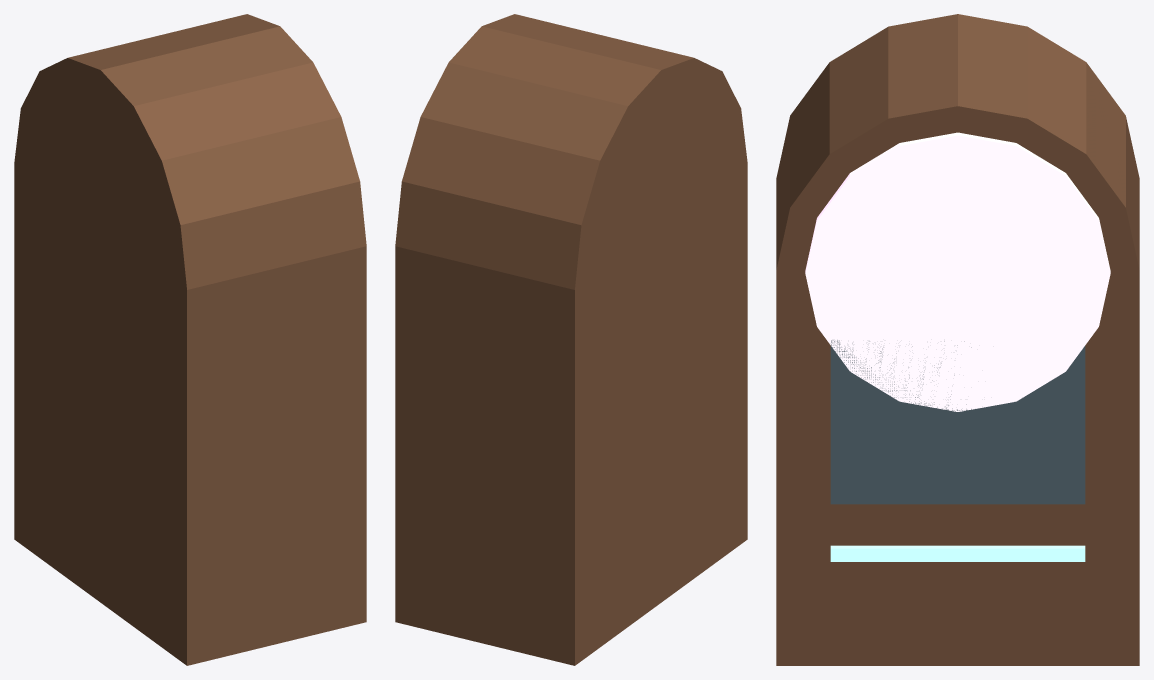
Rendered from SM_Jukebox.fbx.
3 views of the same model, side by side, from view 1: azimuth 30°, elevation 25°; view 2: azimuth 150°, elevation 25°; view 3: azimuth 270°, elevation 25° (orthographic). The views are drawn at different scales.
Visible parts, largest first — view 1: SM_Jukebox; view 2: SM_Jukebox; view 3: SM_Jukebox.
Boxes of the visible parts, x1,y1,x2,y2 form: SM_Jukebox: [14, 14, 366, 665]; SM_Jukebox: [395, 14, 747, 665]; SM_Jukebox: [776, 14, 1139, 665].
Size of the model in its own units: 63 by 170 by 100.
